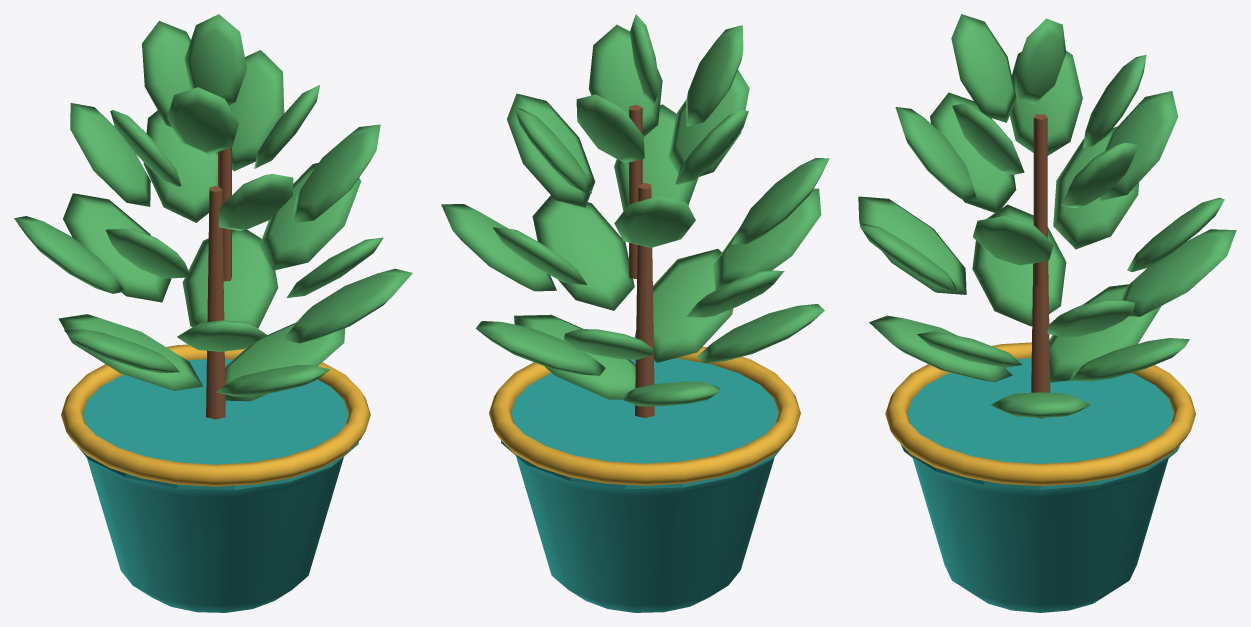
File: potted_plant.glb
3 renders of one model, left to right at view 1: azimuth 30°, elevation 25°; view 2: azimuth 150°, elevation 25°; view 3: azimuth 270°, elevation 25°, orthographic.
Visible parts, largest first — view 1: potted_plant; view 2: potted_plant; view 3: potted_plant.
Part boxes in pixels (box(x1,y1,x2,y2)): potted_plant: box(14, 14, 412, 612); potted_plant: box(441, 14, 829, 612); potted_plant: box(858, 14, 1236, 612).
Bounding box in the file's own units: 1.03 × 1.69 × 1.02.
